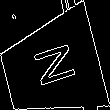N_W: (26, 41, 78, 94)
